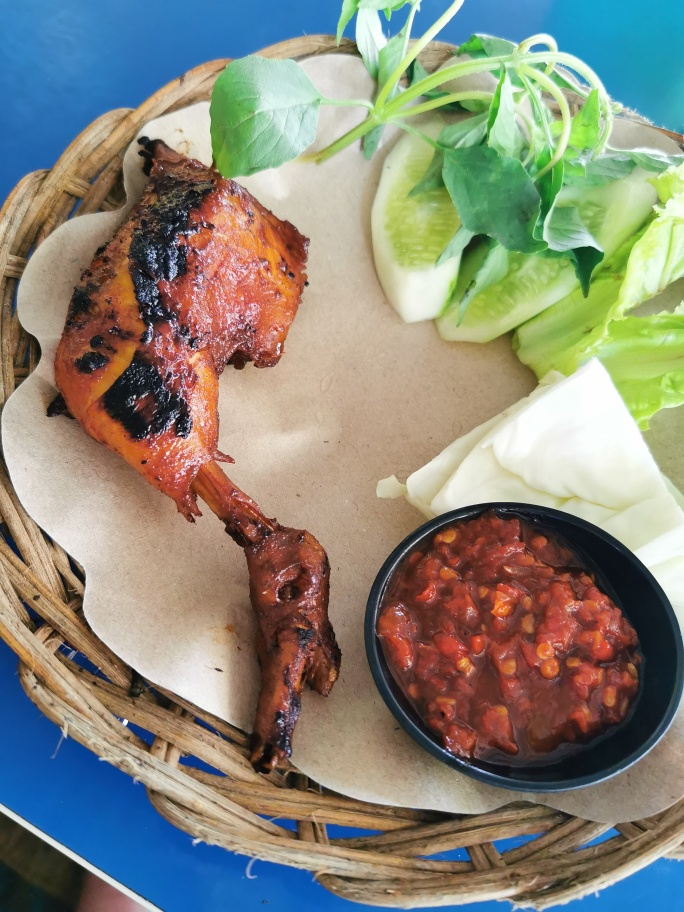ayam bakar: (55, 125, 372, 762)
